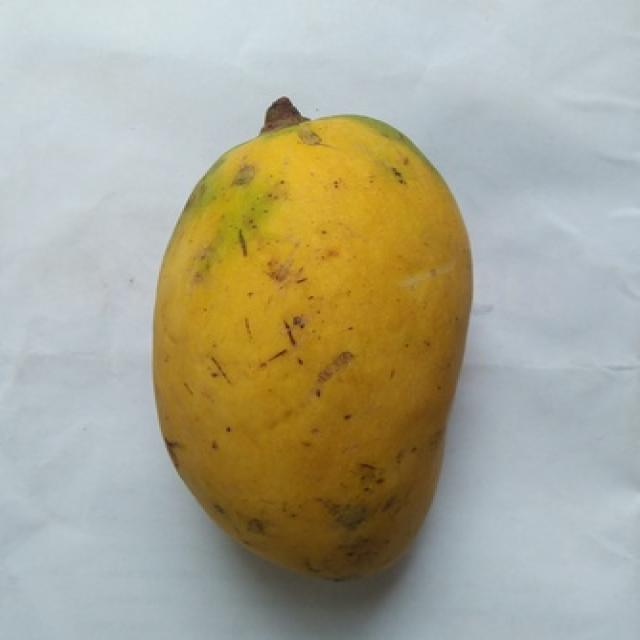Mango: (155, 99, 471, 576)
